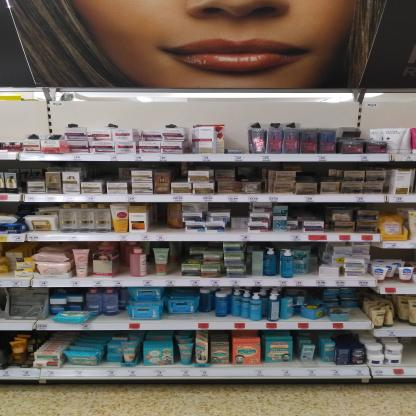Void: (84, 160, 119, 180), (284, 203, 324, 217), (225, 126, 249, 148), (146, 204, 164, 232), (194, 162, 260, 169), (304, 162, 329, 178), (22, 162, 42, 180), (227, 203, 251, 217), (170, 244, 180, 276), (173, 164, 188, 180), (138, 164, 170, 170), (246, 174, 258, 178)
